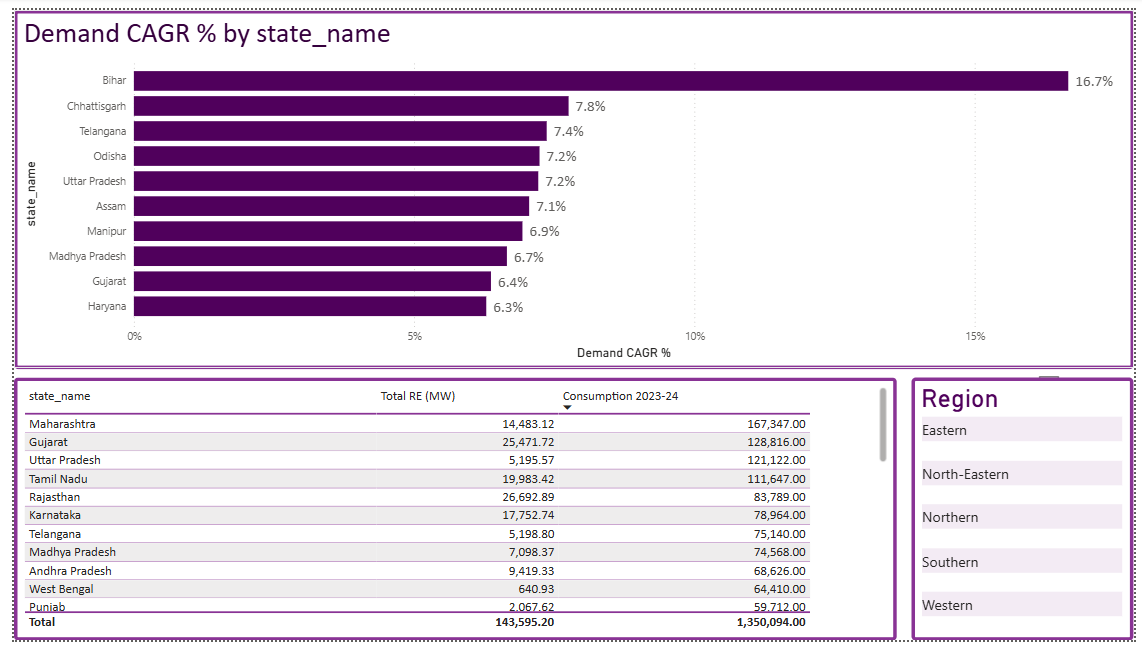

This screenshot's page, from the dashboard's own definition file:
{"tool":"powerbi","page":{"name":"State Explorer","canvas":[1280,720],"ordinal":1},"visuals":[{"type":"clusteredBarChart","fields":{"Category":["dim_state.state_name"],"Y":["fact_consumption.Demand CAGR %"]},"box":[0,0,1280.3,410.3],"z":0},{"type":"tableEx","fields":{"Values":["dim_state.state_name","fact_consumption.Total RE (MW)","fact_consumption.Consumption 2023-24"]},"box":[0,419.9,1008.6,300.5],"z":1000},{"type":"listSlicer","title":"Region","fields":{"Values":["dim_state.region"]},"box":[1026.4,419.9,253.9,300.5],"z":2000}]}

Visuals, with their boxes in screenshot pixels (x1, y1, x2, y2), scaled from the page's 1280x720 canvas onto the 1142x662 screenshot:
clusteredBarChart - dim_state.state_name x fact_consumption.Demand CAGR %: <box>0,0,1141,377</box>
tableEx - dim_state.state_name x fact_consumption.Total RE (MW): <box>0,386,900,661</box>
"Region" listSlicer: <box>916,386,1141,661</box>
